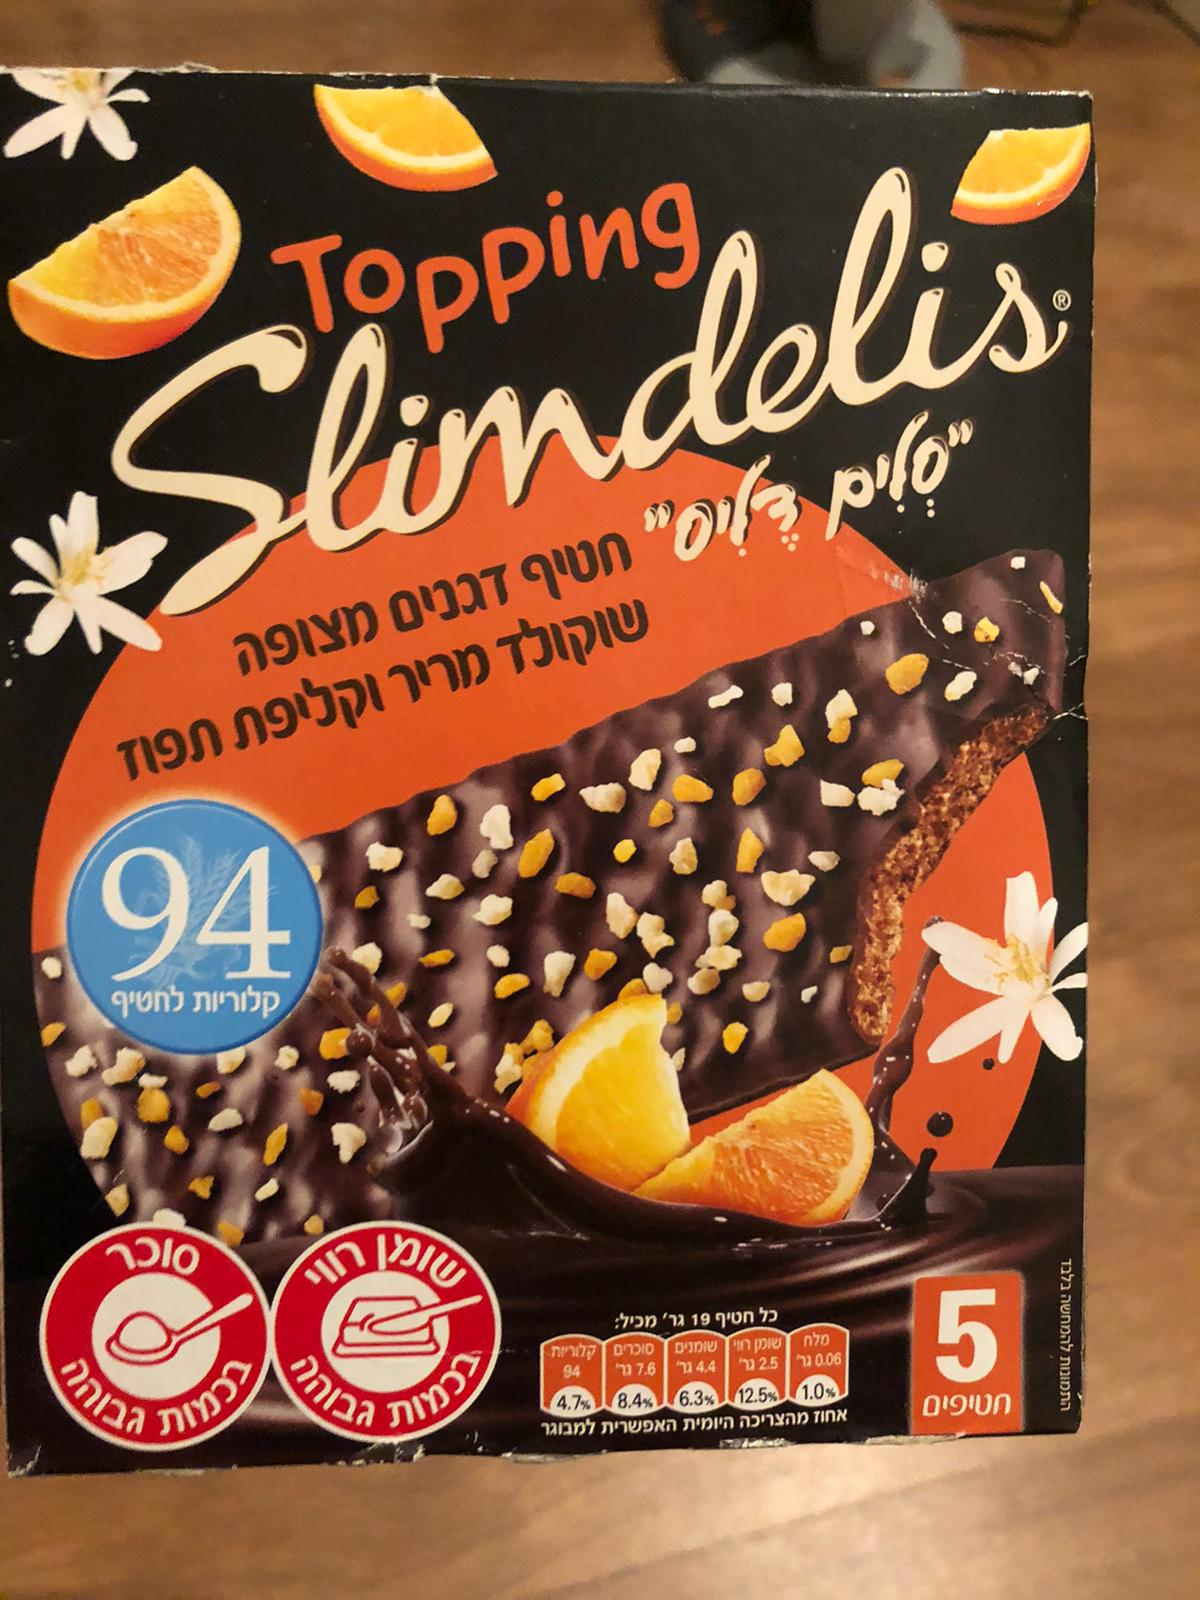fat: (267, 1218, 507, 1448)
sugar: (34, 1218, 268, 1453)
